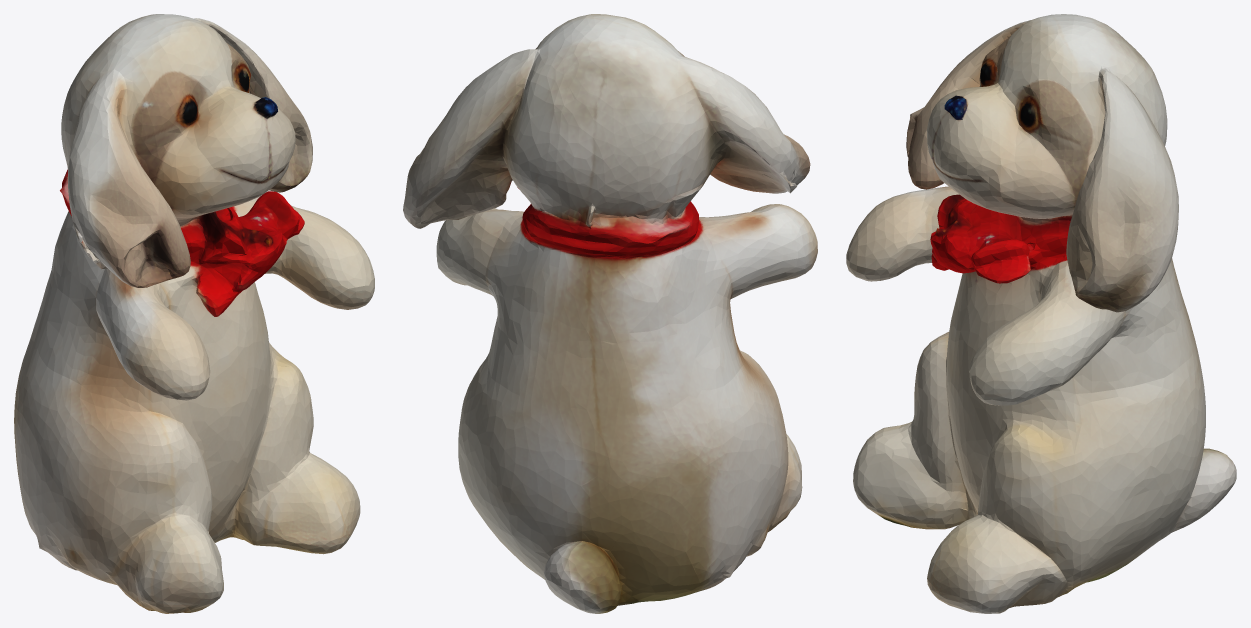
The picture shows the model from 3 angles, left to right: view 1: azimuth 30°, elevation 25°; view 2: azimuth 150°, elevation 25°; view 3: azimuth 270°, elevation 25°; orthographic projection. The views are drawn at different scales.
Visible parts, largest first — view 1: world; view 2: world; view 3: world.
Part boxes in pixels (x1=…): world: x1=14, y1=14, x2=374, y2=613; world: x1=403, y1=14, x2=817, y2=613; world: x1=846, y1=14, x2=1236, y2=613.
Size of the model in its own units: 0.6331 by 0.9951 by 0.6683.
Materials: 1 (1 with a texture image).
